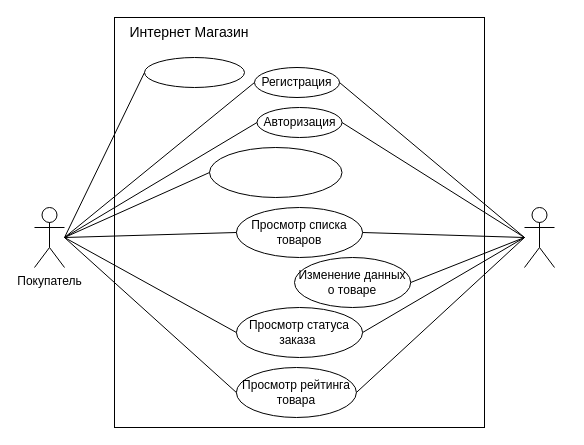
This 584x445 diagram has some shape labels left out. Each missing label, with the centre of its shape:
"Добавление товара в корзину" goes at point 275,172.
"Покупка товара" goes at point 194,72.
"Продавец" goes at point 539,237.
